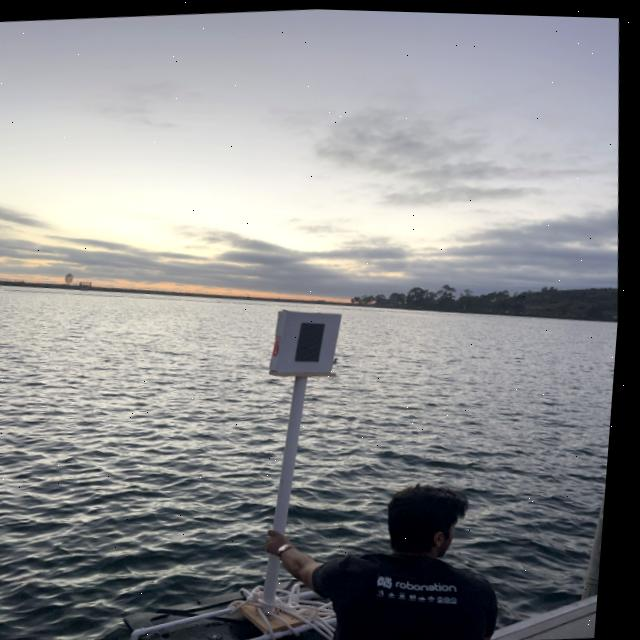led: (287, 303, 337, 370)
